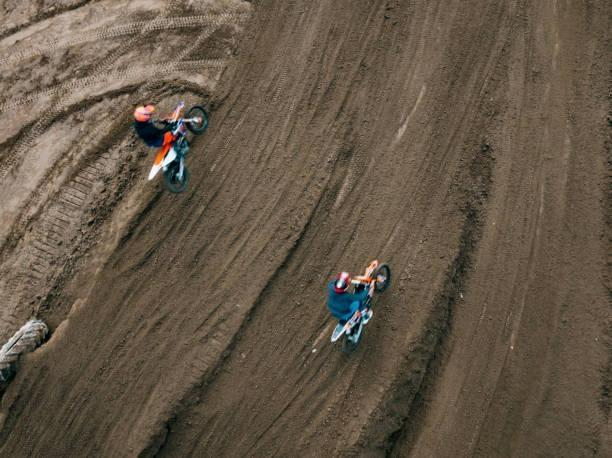Motorcycle: (308, 258, 395, 349), (147, 103, 213, 192)
